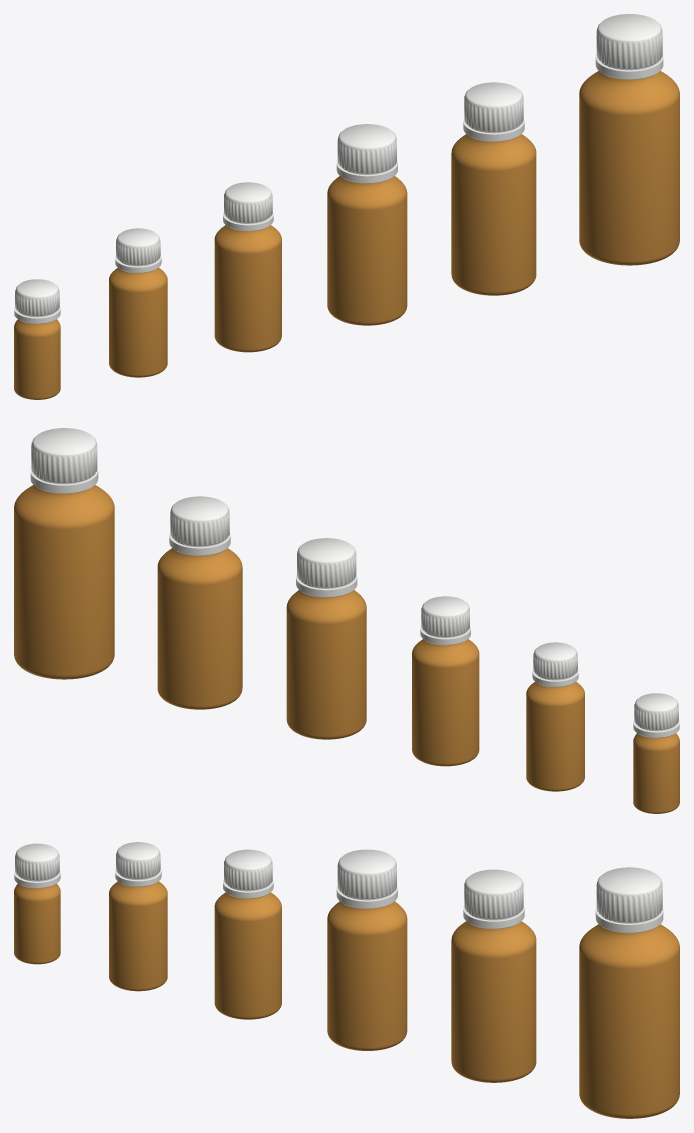
File: amber_bottles_kit.glb
3 views of the same model, one above another, from view 1: azimuth 30°, elevation 25°; view 2: azimuth 150°, elevation 25°; view 3: azimuth 330°, elevation 25° (orthographic).
Visible parts, largest first — view 1: Bottle_100ml, Bottle_060ml, Bottle_050ml, Bottle_030ml, Bottle_020ml, Cap_100ml_PP28, Bottle_010ml, Cap_050ml_PP25, Cap_060ml_PP25, Cap_030ml_PP20, Cap_020ml_PP18, Cap_010ml_PP18; view 2: Bottle_100ml, Bottle_060ml, Bottle_050ml, Bottle_030ml, Bottle_020ml, Cap_100ml_PP28, Bottle_010ml, Cap_060ml_PP25, Cap_050ml_PP25, Cap_030ml_PP20, Cap_020ml_PP18, Cap_010ml_PP18; view 3: Bottle_100ml, Bottle_060ml, Bottle_050ml, Bottle_030ml, Bottle_020ml, Cap_100ml_PP28, Bottle_010ml, Cap_060ml_PP25, Cap_050ml_PP25, Cap_030ml_PP20, Cap_010ml_PP18, Cap_020ml_PP18.
Boxes of the visible parts, left/top/right/bottom form: Bottle_100ml: left=579, top=71, right=679, bottom=265; Bottle_060ml: left=451, top=134, right=536, bottom=295; Bottle_050ml: left=327, top=176, right=407, bottom=325; Bottle_030ml: left=214, top=225, right=281, bottom=352; Bottle_020ml: left=109, top=268, right=167, bottom=377; Cap_100ml_PP28: left=595, top=14, right=663, bottom=79; Bottle_010ml: left=14, top=319, right=60, bottom=399; Cap_050ml_PP25: left=336, top=124, right=397, bottom=183; Cap_060ml_PP25: left=463, top=82, right=524, bottom=141; Cap_030ml_PP20: left=223, top=182, right=273, bottom=231; Cap_020ml_PP18: left=115, top=228, right=161, bottom=273; Cap_010ml_PP18: left=14, top=279, right=60, bottom=323; Bottle_100ml: left=14, top=485, right=114, bottom=679; Bottle_060ml: left=157, top=548, right=242, bottom=709; Bottle_050ml: left=286, top=590, right=366, bottom=739; Bottle_030ml: left=412, top=639, right=479, bottom=766; Bottle_020ml: left=526, top=682, right=584, bottom=791; Cap_100ml_PP28: left=30, top=428, right=98, bottom=493; Bottle_010ml: left=633, top=733, right=679, bottom=813; Cap_060ml_PP25: left=169, top=496, right=230, bottom=555; Cap_050ml_PP25: left=296, top=538, right=357, bottom=597; Cap_030ml_PP20: left=420, top=596, right=470, bottom=645; Cap_020ml_PP18: left=532, top=642, right=578, bottom=687; Cap_010ml_PP18: left=633, top=693, right=679, bottom=737; Bottle_100ml: left=579, top=924, right=679, bottom=1118; Bottle_060ml: left=451, top=921, right=536, bottom=1082; Bottle_050ml: left=327, top=901, right=407, bottom=1050; Bottle_030ml: left=214, top=892, right=281, bottom=1019; Bottle_020ml: left=109, top=881, right=167, bottom=991; Cap_100ml_PP28: left=595, top=867, right=663, bottom=933; Bottle_010ml: left=14, top=883, right=60, bottom=964; Cap_060ml_PP25: left=463, top=869, right=524, bottom=928; Cap_050ml_PP25: left=336, top=849, right=397, bottom=908; Cap_030ml_PP20: left=223, top=849, right=273, bottom=898; Cap_010ml_PP18: left=14, top=843, right=60, bottom=888; Cap_020ml_PP18: left=115, top=842, right=161, bottom=886.
Size of the model in its own units: 0.3566 by 0.1142 by 0.0474.
